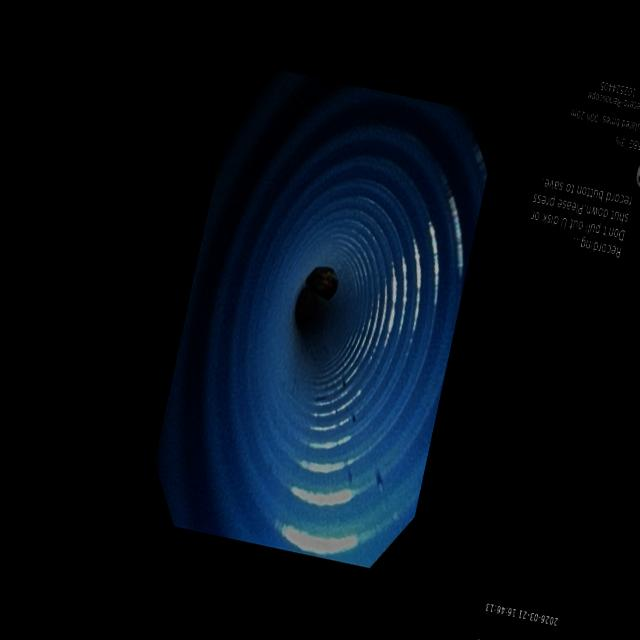stone-new: (306, 268, 337, 300)
